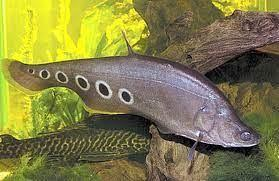Janitor Fish: (2, 115, 151, 165)
Knifefish: (7, 40, 262, 168)
